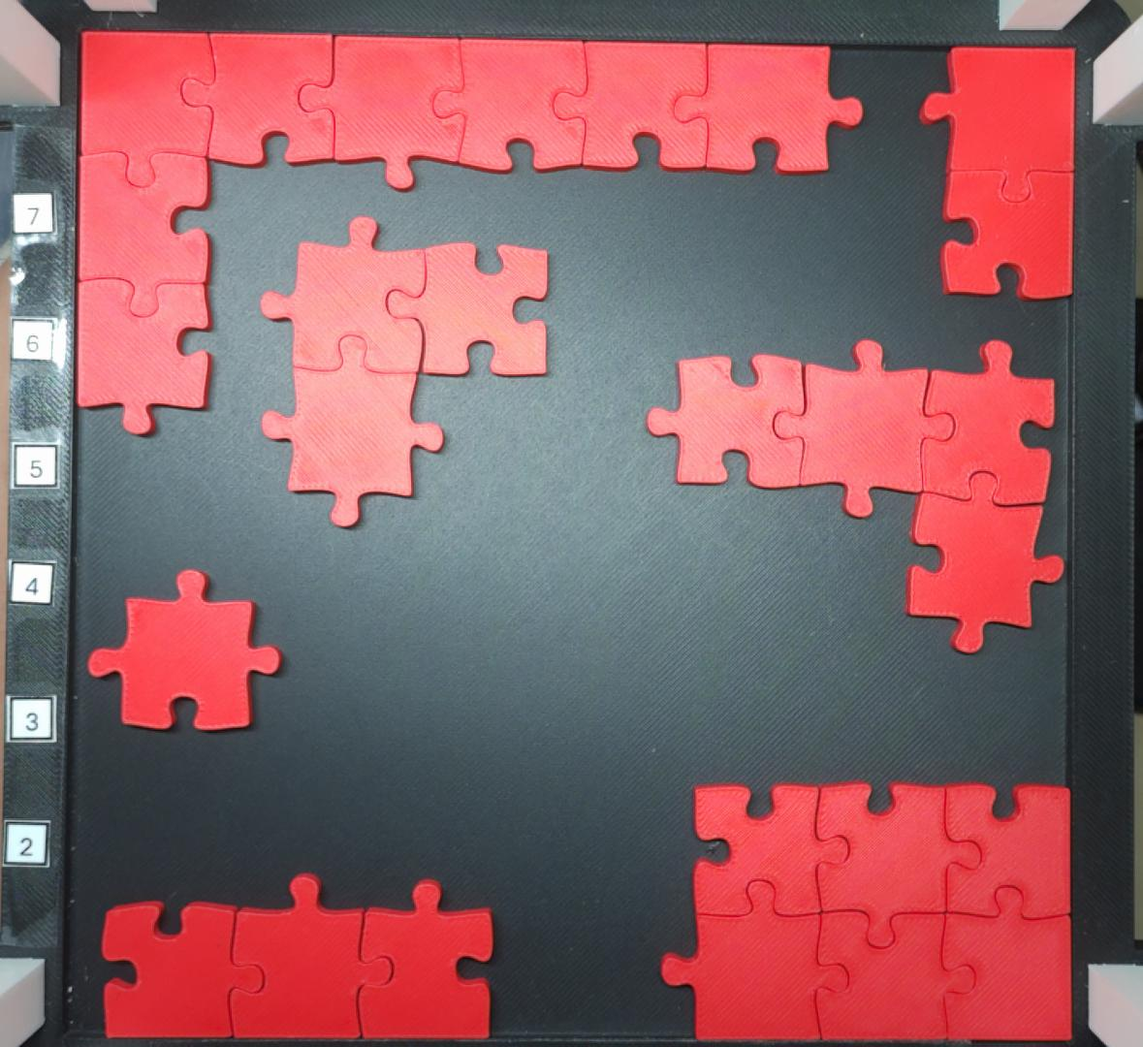p_1: (86, 565, 284, 736)
p_2: (919, 43, 1077, 301)
p_3: (258, 214, 551, 528), (98, 871, 493, 1042)
p_4: (646, 336, 1065, 655)
p_m: (74, 27, 865, 435), (658, 780, 1074, 1044)
